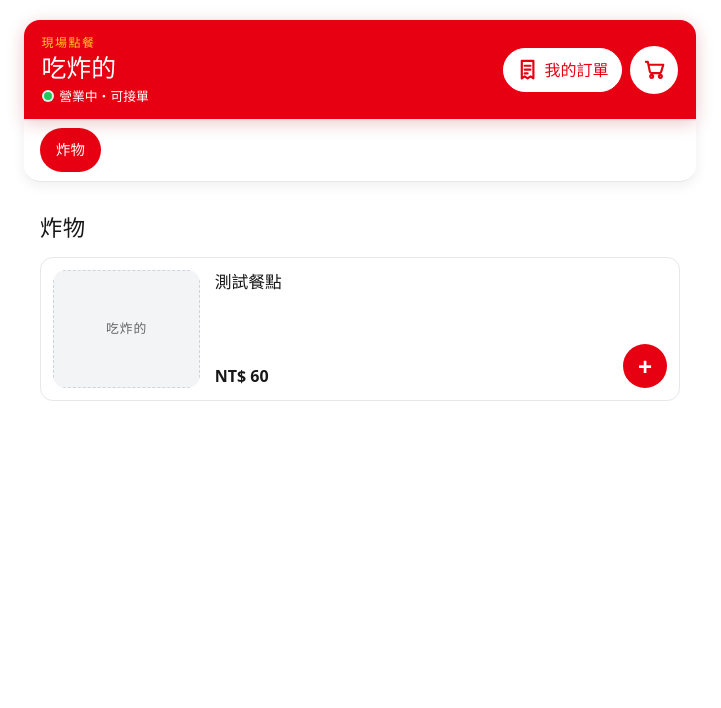
Test: onsite stale pending-attempt regression › shows a normal business-hours message when Quote rejects without claiming Store is paused
Click the button named "加入 測試餐點". click: {"x": 645, "y": 366}
box: [623,344,667,388]
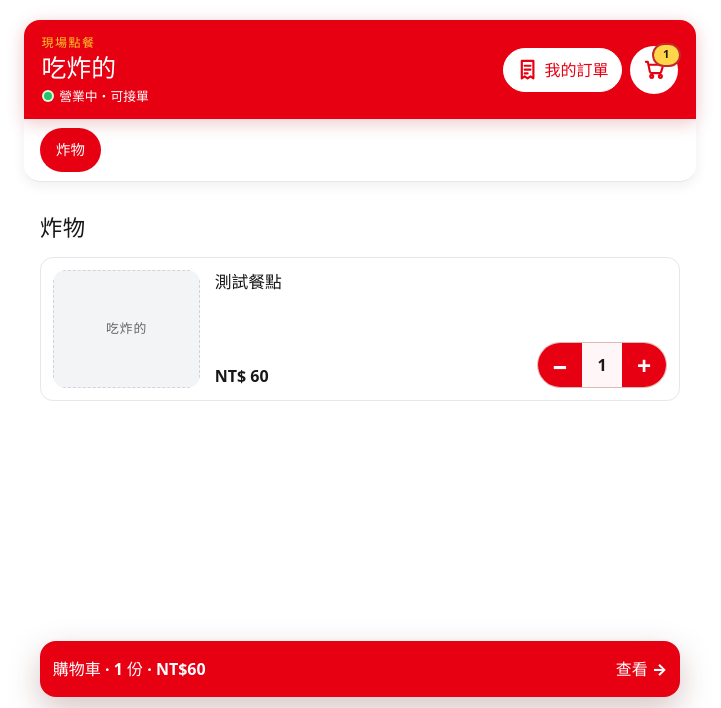
Click the button named "購物車共 1 件". click: {"x": 654, "y": 70}
box: [630,46,678,94]
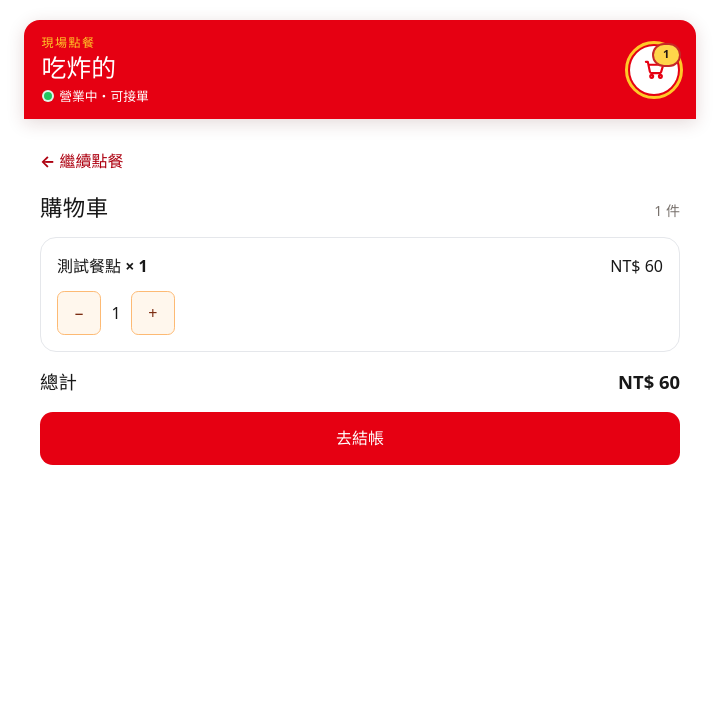
Click the button "去結帳". click: {"x": 360, "y": 438}
box: [40,412,680,465]
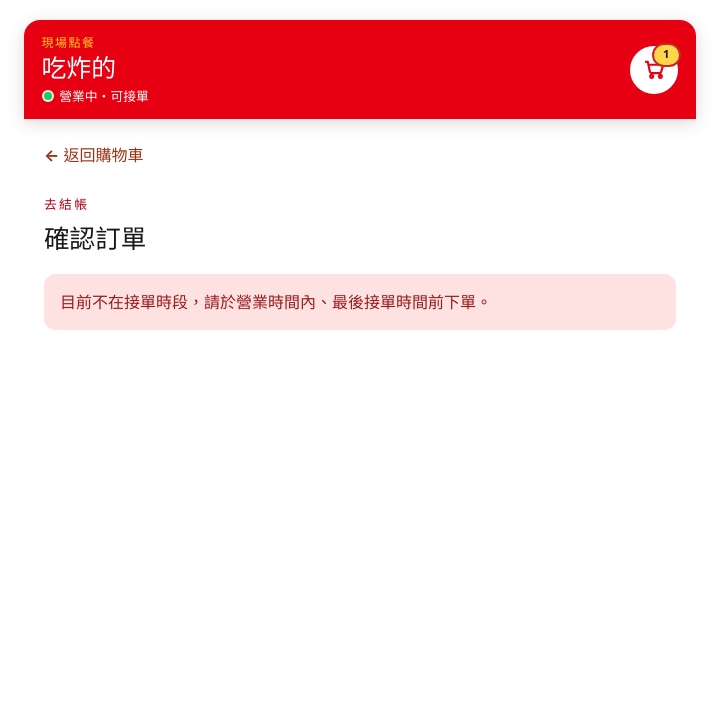
Expected: the heading "確認訂單" is shown, [44,221,146,256]
Expected: the text "目前不在接單時段，請於營業時間內、最後接單時間前下單。" is shown, [44,274,676,330]
